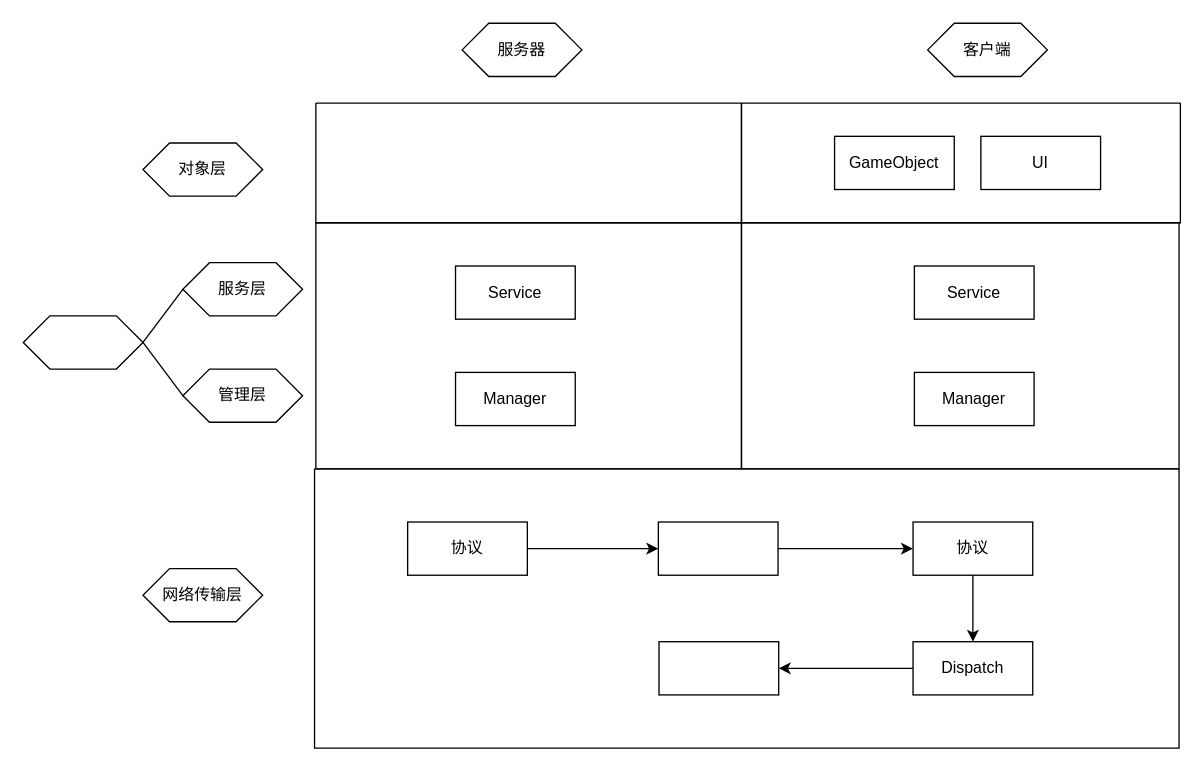
Image size: 1204x771. Some labels were removed from this diagram. The shapes that lost their labels are listed below. From the top down, each one's centre as x and y in pixels, then its label:
the point at 82,342: 逻辑层
the point at 717,548: 二进制
the point at 718,667: Distribute
